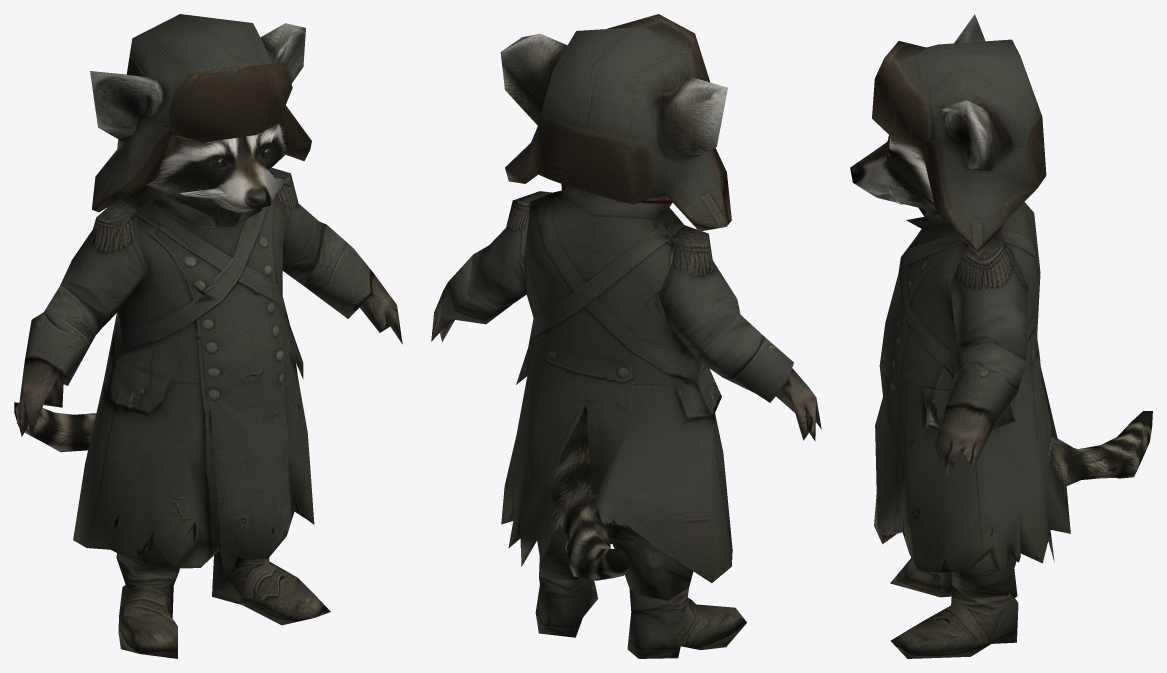
File: infantry_mix_gibs.glb
The picture shows the model from 3 angles, left to right: view 1: azimuth 30°, elevation 25°; view 2: azimuth 150°, elevation 25°; view 3: azimuth 270°, elevation 25°; orthographic projection. The views are drawn at different scales.
Visible parts, largest first — view 1: Body.001, Hat.001, Head.001, Forarm.R.001, Arm.R.001, Forarm.L.001, Leg.L.001, Leg.R.001, Arm.L.001, Upleg.R.001; view 2: Body.001, Hat.001, Arm.R.001, Forarm.R.001, Leg.R.001, Arm.L.001, Leg.L.001, Upleg.R.001, Forarm.L.001, Upleg.L.001; view 3: Body.001, Hat.001, Arm.L.001, Forarm.L.001, Leg.L.001, Head.001, Upleg.L.001, Leg.R.001.
Boxes of the visible parts, x1,y1,x2,y2 form: Body.001: [14, 185, 314, 579]; Hat.001: [90, 14, 311, 212]; Head.001: [147, 122, 286, 227]; Forarm.R.001: [15, 285, 102, 436]; Arm.R.001: [60, 200, 146, 326]; Forarm.L.001: [303, 224, 402, 344]; Leg.L.001: [212, 550, 330, 625]; Leg.R.001: [116, 558, 178, 658]; Arm.L.001: [269, 168, 326, 285]; Upleg.R.001: [116, 544, 179, 574]; Body.001: [501, 184, 732, 582]; Hat.001: [500, 14, 731, 231]; Arm.R.001: [658, 225, 740, 359]; Forarm.R.001: [697, 315, 821, 441]; Leg.R.001: [627, 588, 746, 658]; Arm.L.001: [467, 191, 551, 307]; Leg.L.001: [535, 577, 597, 637]; Upleg.R.001: [612, 540, 693, 600]; Forarm.L.001: [431, 255, 511, 341]; Upleg.L.001: [539, 525, 580, 580]; Body.001: [874, 202, 1152, 574]; Hat.001: [872, 14, 1046, 255]; Arm.L.001: [951, 243, 1027, 360]; Forarm.L.001: [934, 342, 1026, 480]; Leg.L.001: [890, 586, 1018, 658]; Head.001: [850, 135, 938, 216]; Upleg.L.001: [952, 555, 1016, 599]; Leg.R.001: [890, 558, 1017, 597].
Bounding box in the file's own units: 0.6573 × 0.9797 × 0.4693.
Materials: 2 (1 with a texture image).
